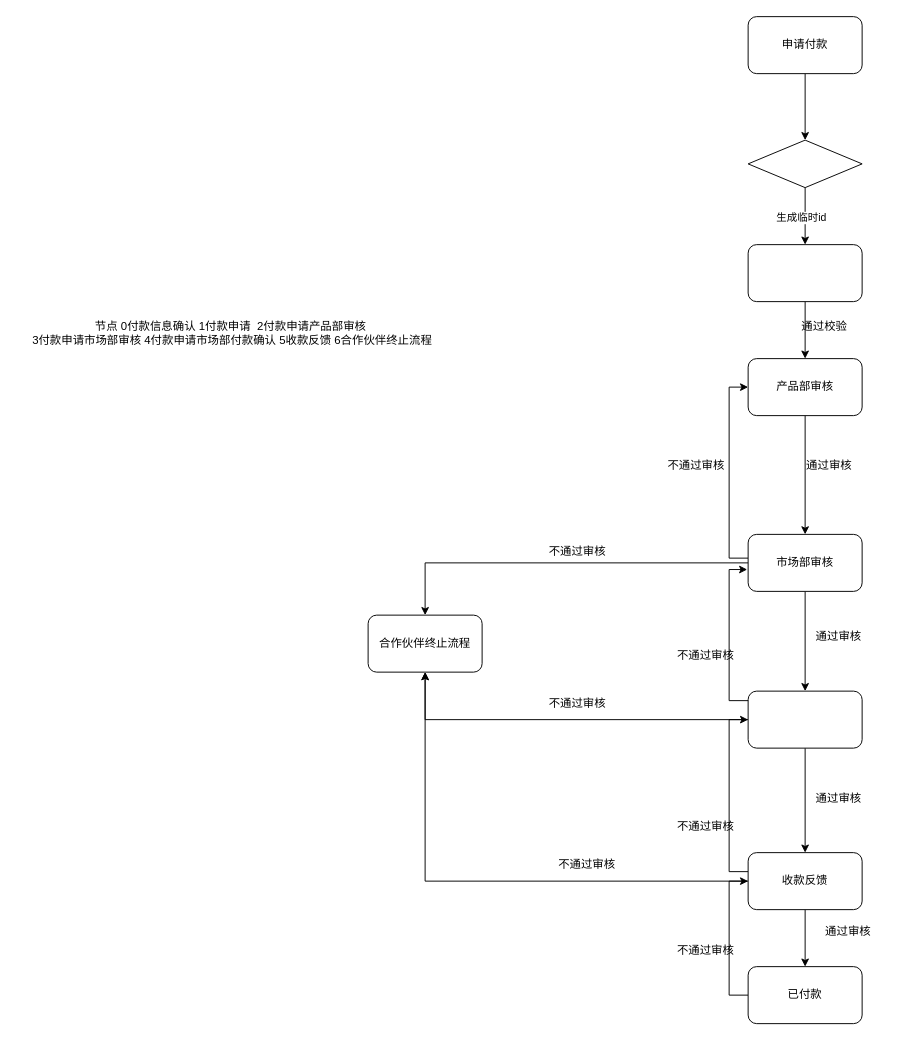
This 897x1040 diagram has some shape labels left out. Each missing label, with the centre of its shape:
"前端跳转详情页" belongs at (x=804, y=273).
"市场部付款确认" belongs at (x=804, y=719).
"校验" belongs at (x=804, y=163).
